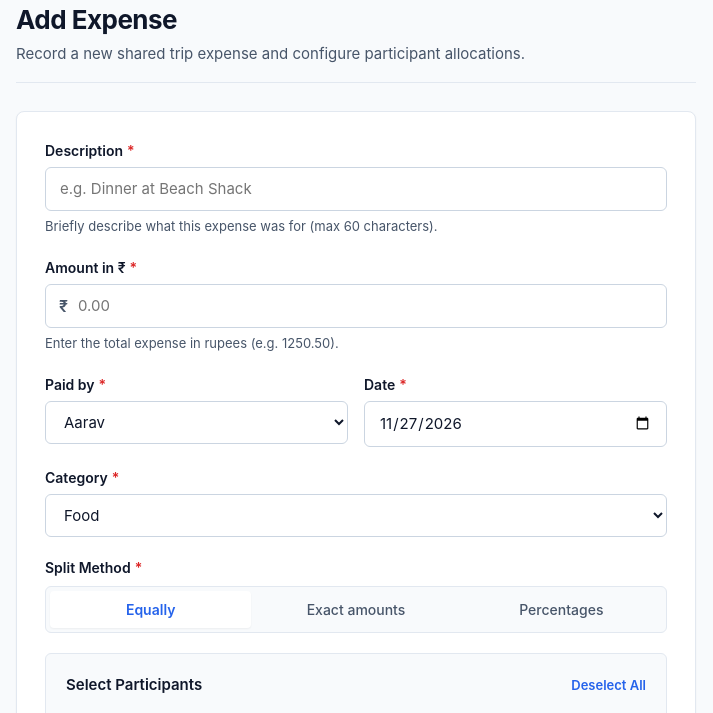
Test: AddExpensePage Integration › switches between split methods dynamically and renders respective fields
expect the heading "Select Participants" is shown: met, box [66,674,202,696]
// Switch to Exact amounts
Click the radio button labelled "Exact amounts".
click(356, 610)  # box [255,591,457,628]
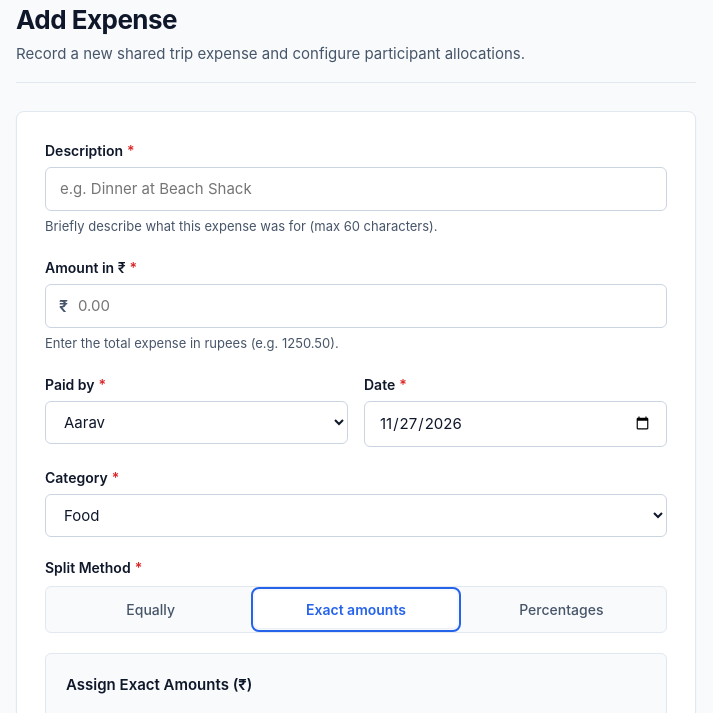
expect the heading "Assign Exact Amounts (₹)" is shown: met, box [66,674,252,696]
// Switch to Percentages
Click the radio button labelled "Percentages".
click(561, 610)  # box [461,591,662,628]
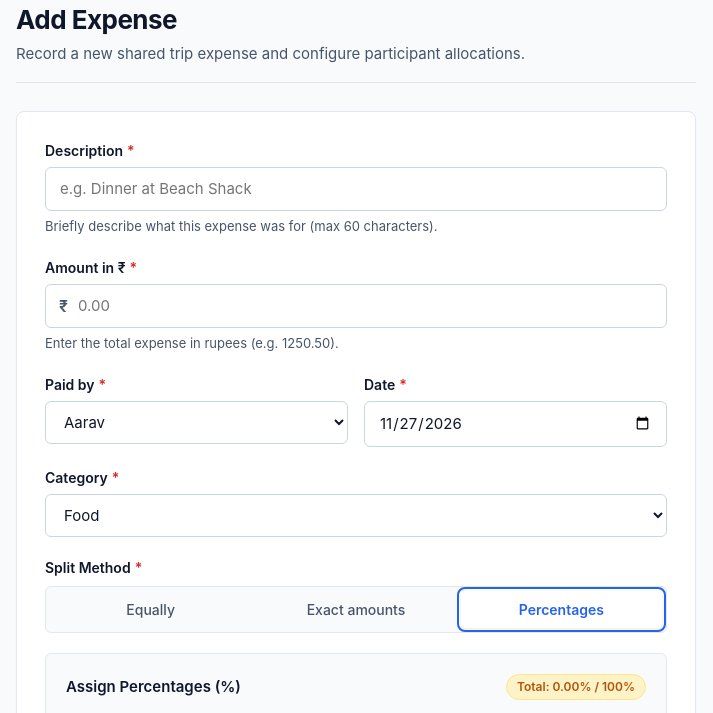
expect the heading "Assign Percentages (%)" is shown: met, box [66,676,241,698]
expect the text "Total: 0.00% / 100%" is shown: met, box [506,674,646,700]
